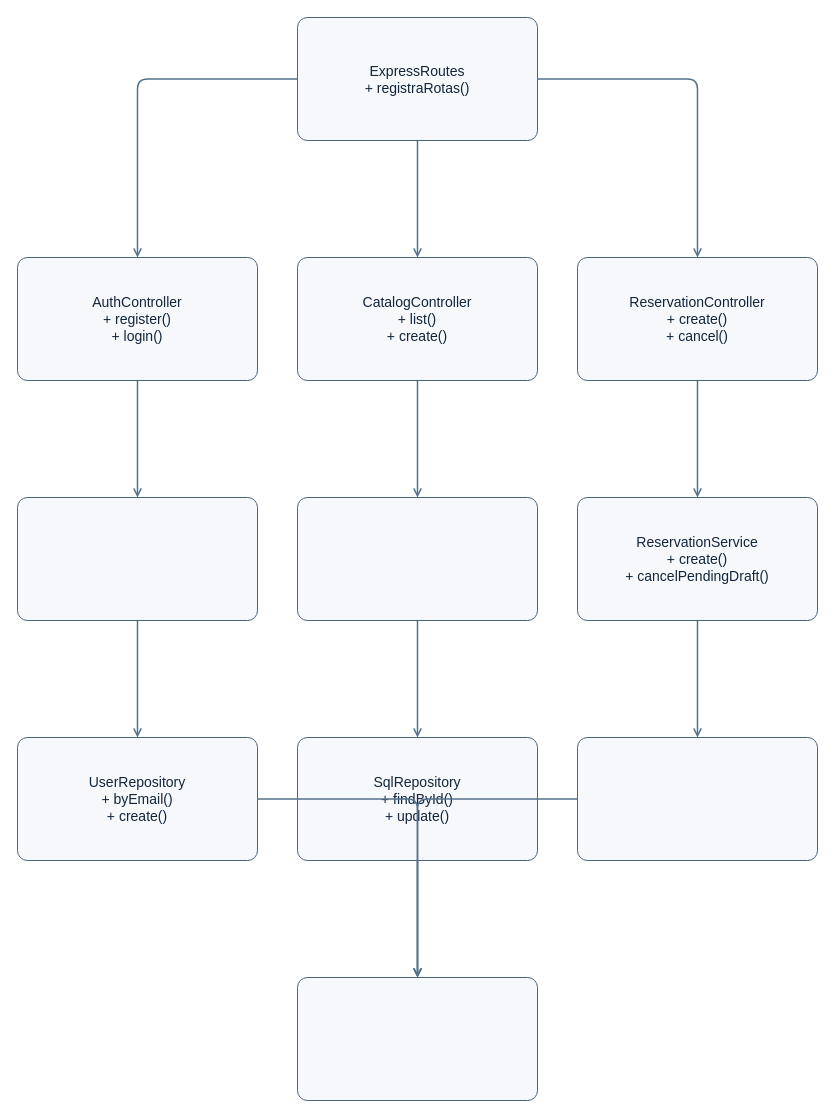
Some shapes in this 835 by 1118 pixel diagram are drawn without their labels. Here are the shapes that lost their labels. From the top down, the centre of each, then its label:
At (x=137, y=558): "AuthService + register() + authenticate()".
At (x=417, y=558): "CatalogService + create() + patch()".
At (x=697, y=798): "ReservationRepository + find() + statusId()".
At (x=417, y=1038): "MySQL8 tb_usuario tb_hotel tb_reserva".
